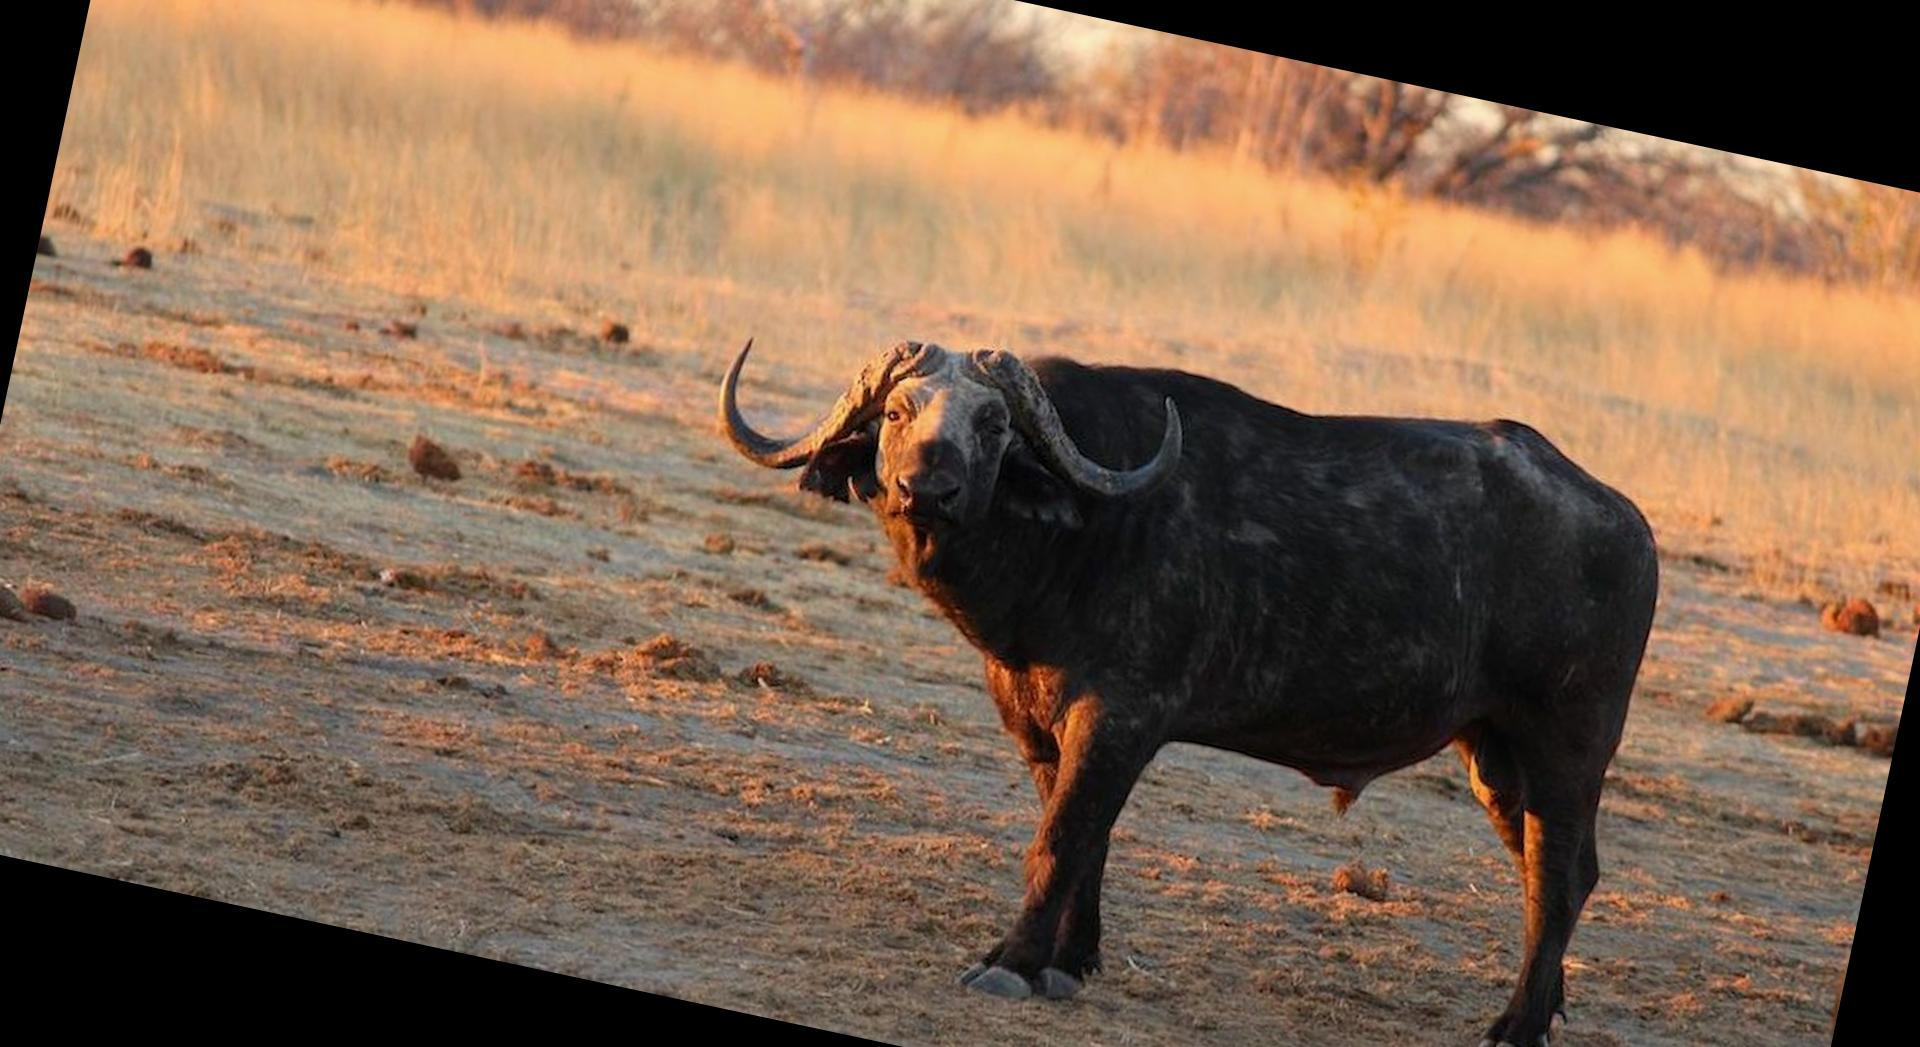Buffalo: (499, 43, 1858, 1047)
